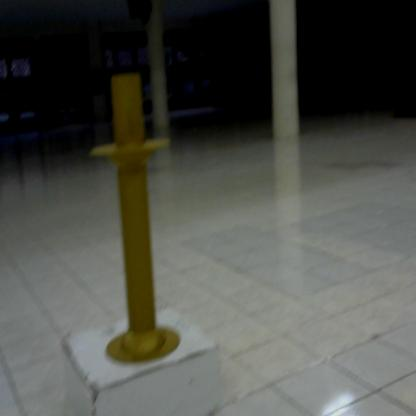pole: (84, 63, 190, 373)
